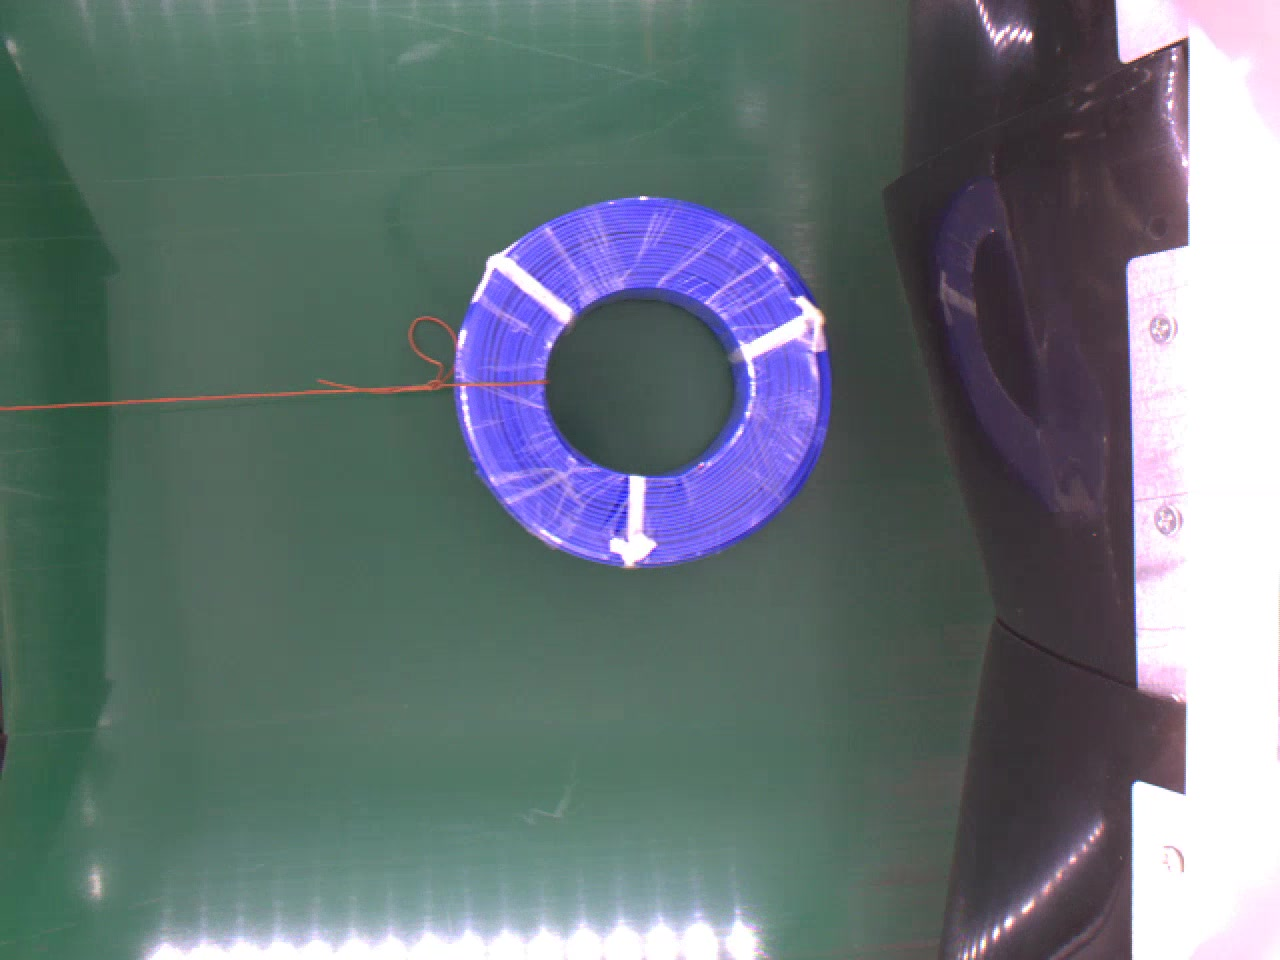blue: (456, 194, 836, 574)
